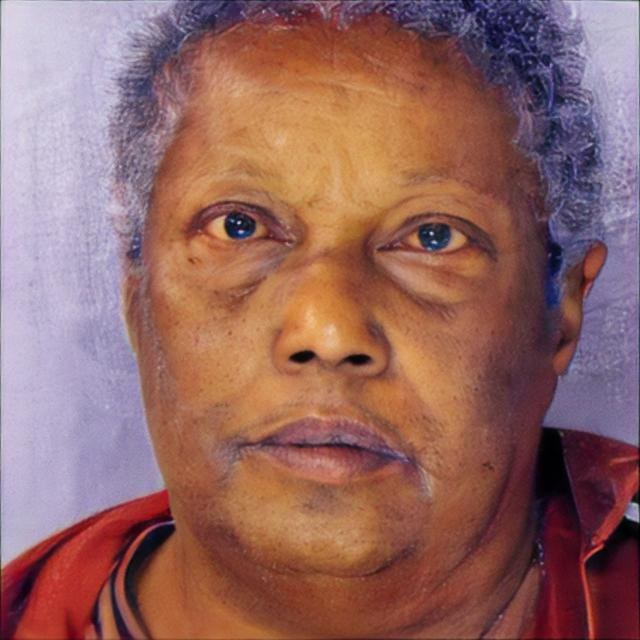neutral: (136, 28, 552, 596)
